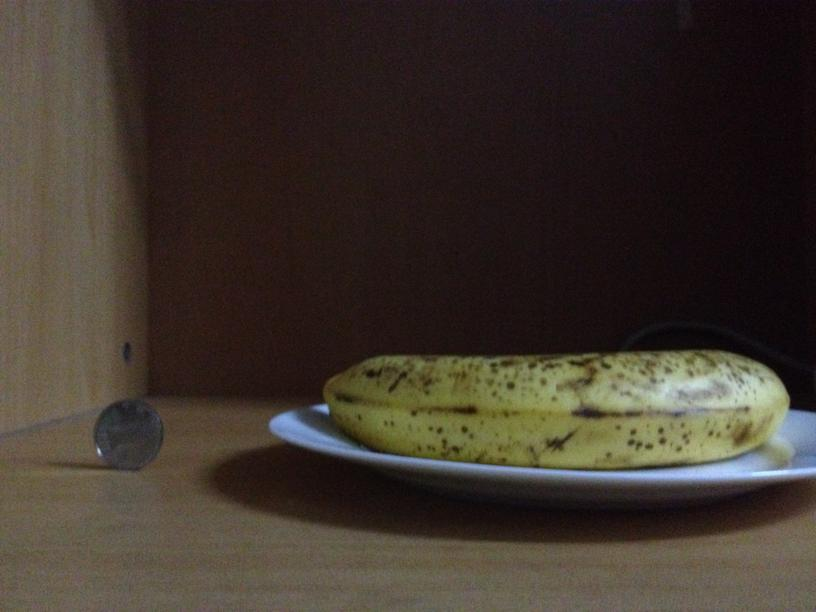banana: (323, 347, 791, 469)
coin: (89, 397, 163, 469)
